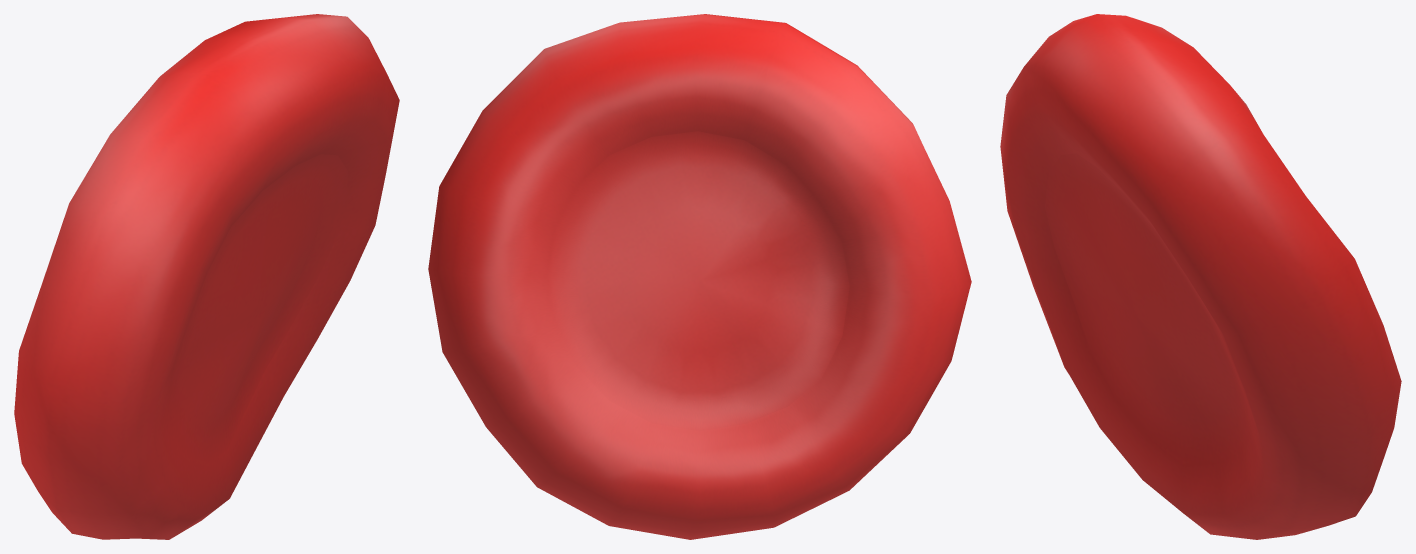
Rendered from erythrocyte_1.glb.
The picture shows the model from 3 angles, left to right: view 1: azimuth 30°, elevation 25°; view 2: azimuth 150°, elevation 25°; view 3: azimuth 270°, elevation 25°; orthographic projection. The views are drawn at different scales.
Parts seen in each view (by area): view 1: redbloodcell2; view 2: redbloodcell2; view 3: redbloodcell2.
Boxes of the visible parts, bbox=[...] form: redbloodcell2: bbox=[14, 14, 399, 539]; redbloodcell2: bbox=[428, 14, 971, 539]; redbloodcell2: bbox=[1000, 14, 1401, 539].
Bounding box in the file's own units: 0.2786 × 0.3007 × 0.2177.
Materials: 1 (1 with a texture image).
